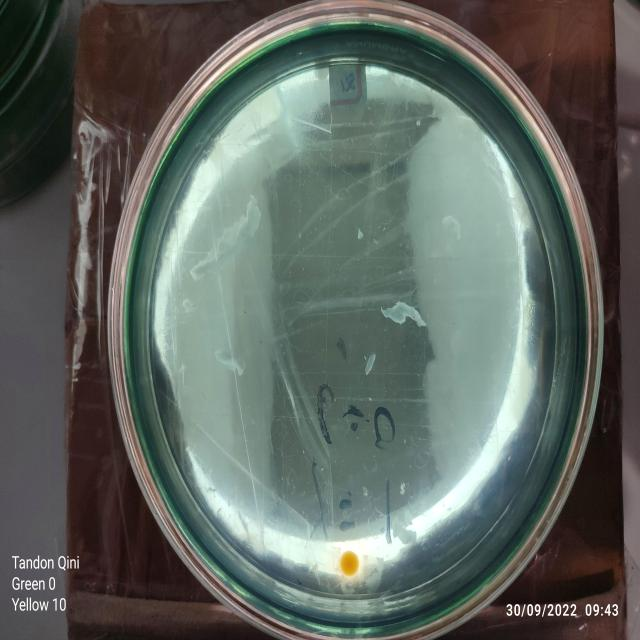yellow: (339, 550, 359, 577)
